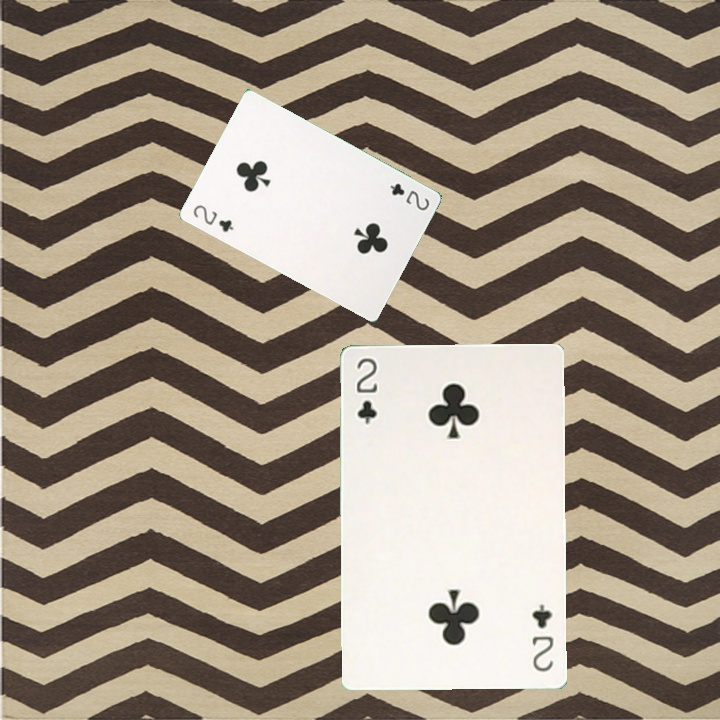2c: (527, 600, 556, 674), (352, 354, 380, 426), (189, 200, 236, 235), (386, 179, 432, 213)
